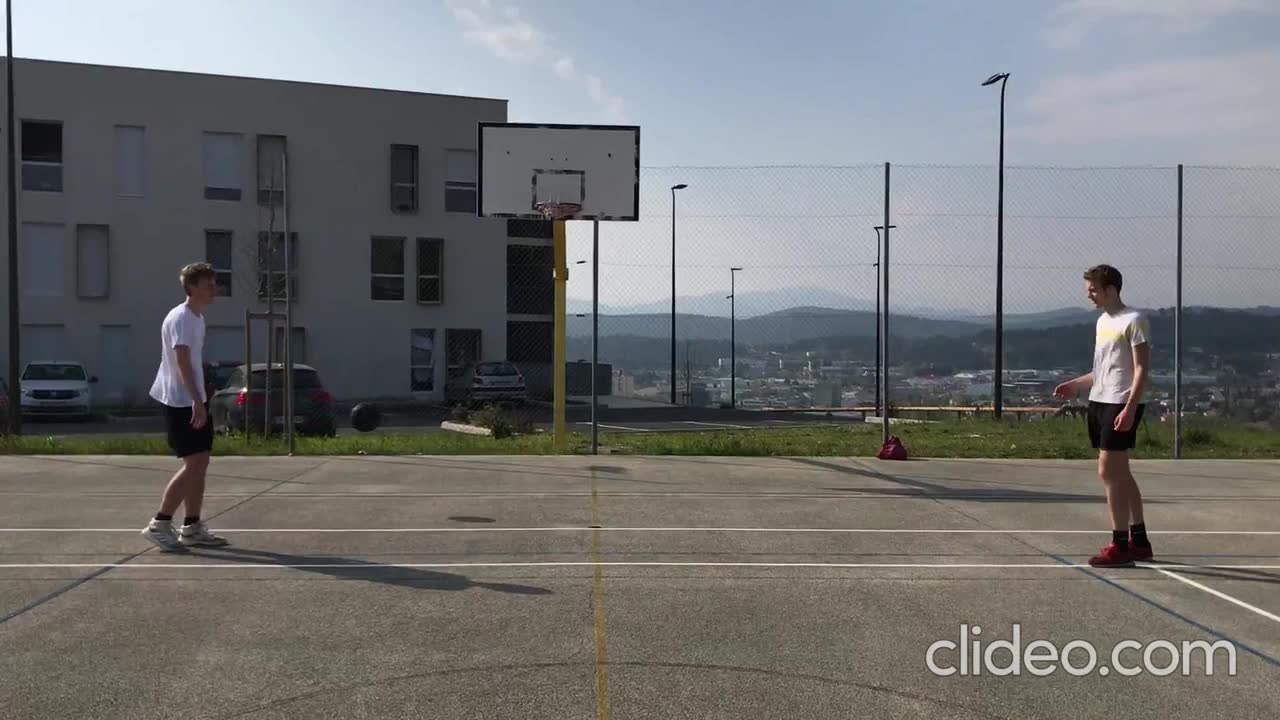jugador: (1040, 255, 1167, 576)
